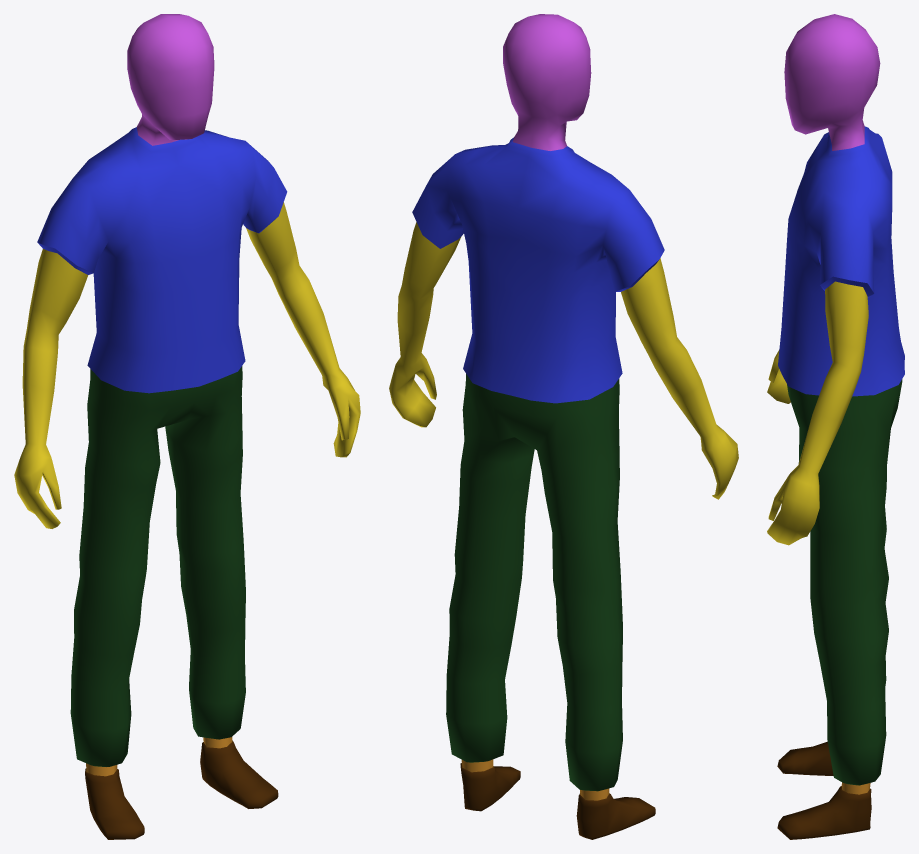
The model's file is BasicMale_Smooth.fbx.
The picture shows the model from 3 angles, left to right: view 1: azimuth 30°, elevation 25°; view 2: azimuth 150°, elevation 25°; view 3: azimuth 270°, elevation 25°; orthographic projection.
Visible parts, largest first — view 1: ClothedMeshApplied; view 2: ClothedMeshApplied; view 3: ClothedMeshApplied.
Part boxes in pixels (<box>): ClothedMeshApplied: <box>14,14,360,839</box>; ClothedMeshApplied: <box>389,14,738,839</box>; ClothedMeshApplied: <box>767,14,904,839</box>.
Size of the model in its own units: 0.7941 by 0.2855 by 1.78.
